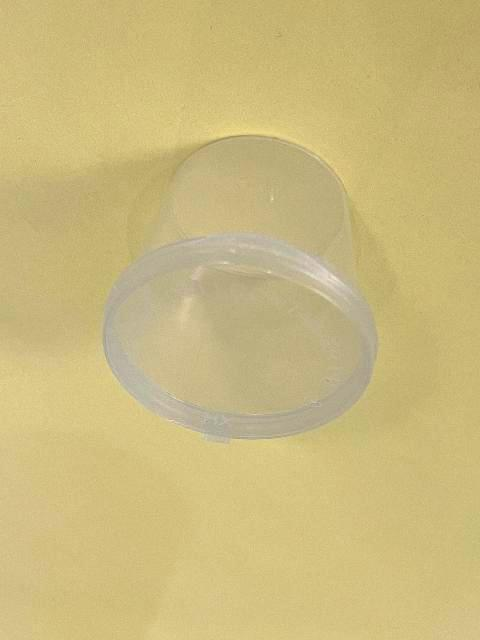plasticcontainer: (102, 132, 378, 448)
